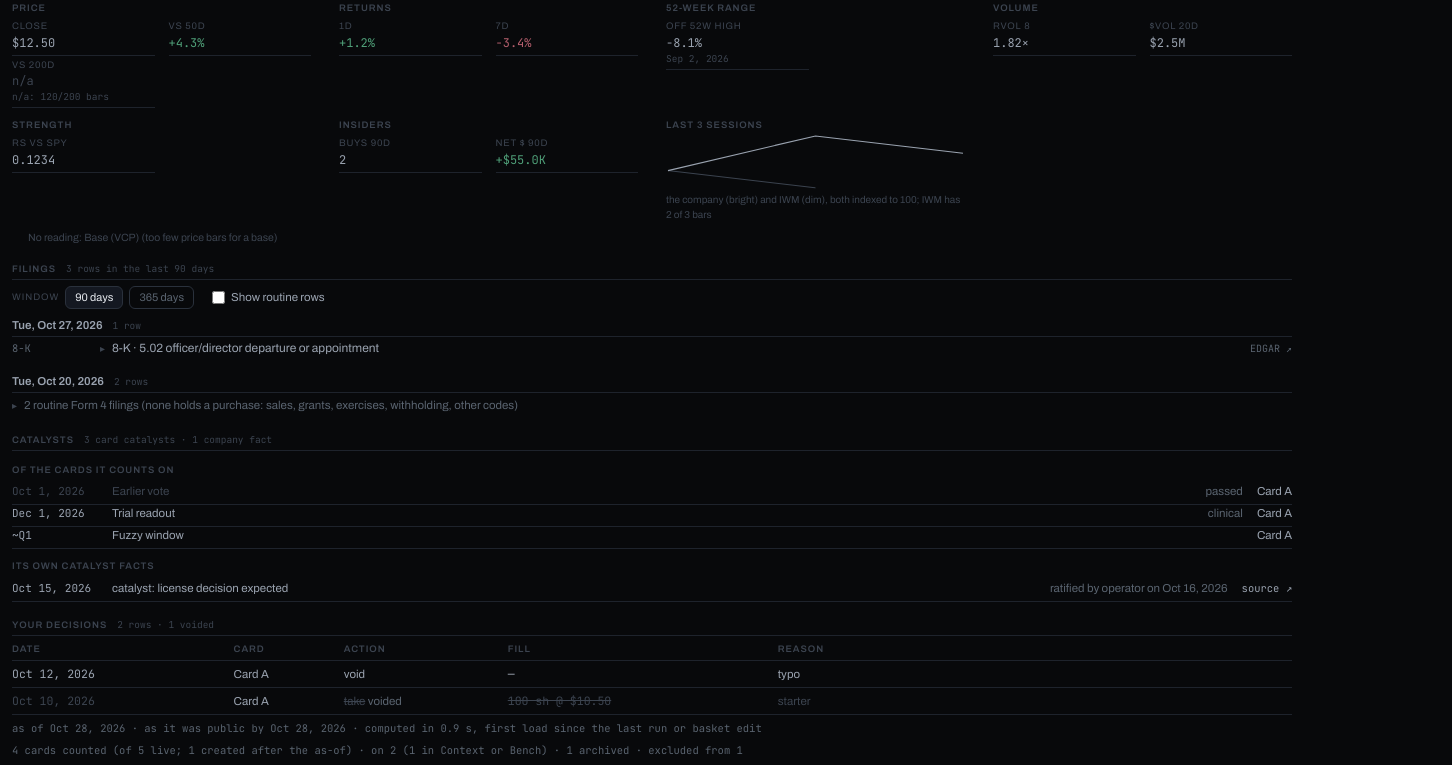
Scenario: TickerLookup — the sections › shows the last 90 days of filings by default, folds the routine rows and flips to 365 days
(page scrolled)
Expected: the number of list items with test id "tl-filing" is 1, x1=12 y1=339 x2=1292 y2=363
Expected: the element "Tue, Oct 27, 2026" is shown, x1=12 y1=317 x2=1292 y2=363
the day's two routine Form 4s are one folded line that opens in place
Click the button "2 routine Form 4 filings" at (265, 406), box x1=12 y1=397 x2=518 y2=415
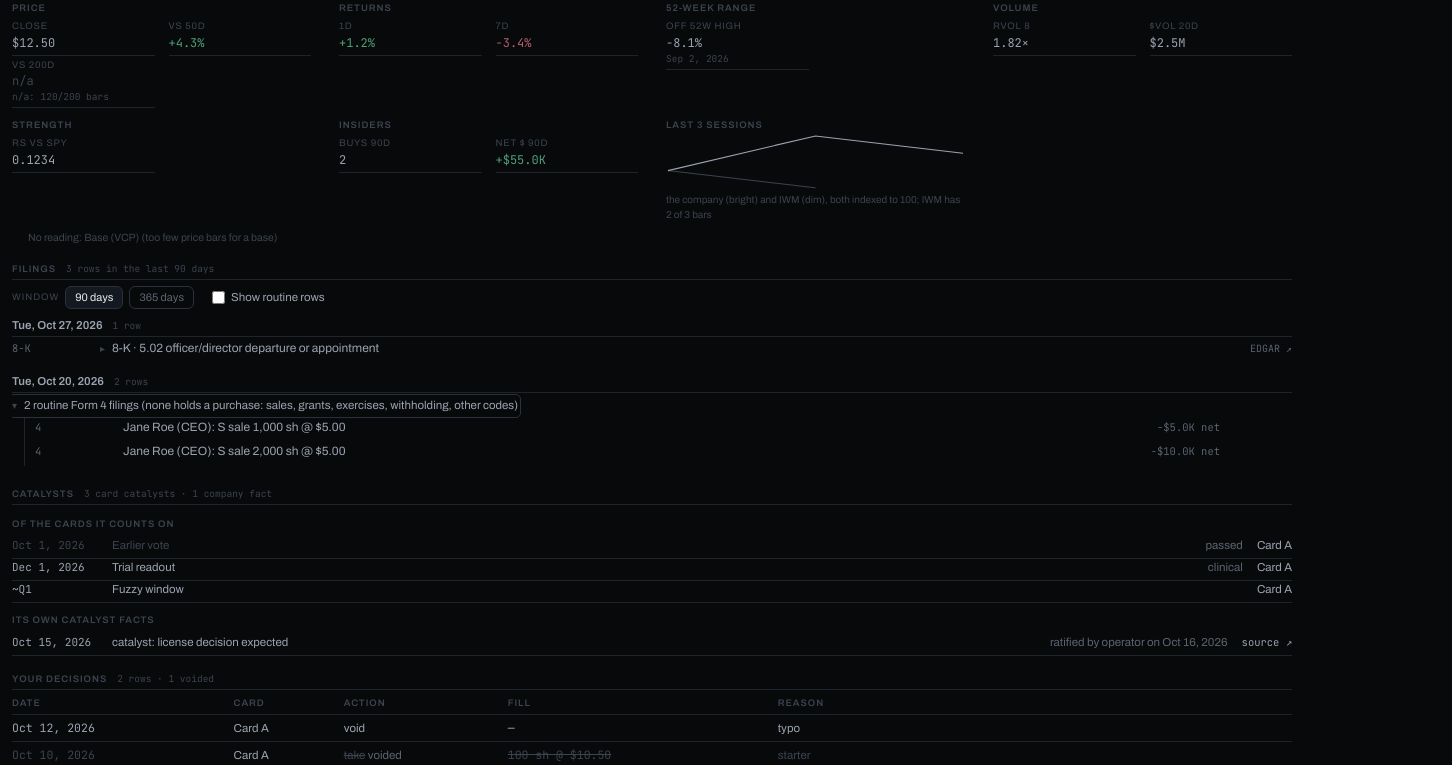
Now the number of list items with test id "tl-filing" is 3, box x1=12 y1=339 x2=1292 y2=363; x1=35 y1=420 x2=1220 y2=434; x1=35 y1=444 x2=1220 y2=458
365 days brings the May filing in
Click the button "365 days" at (162, 298), box x1=129 y1=286 x2=194 y2=309
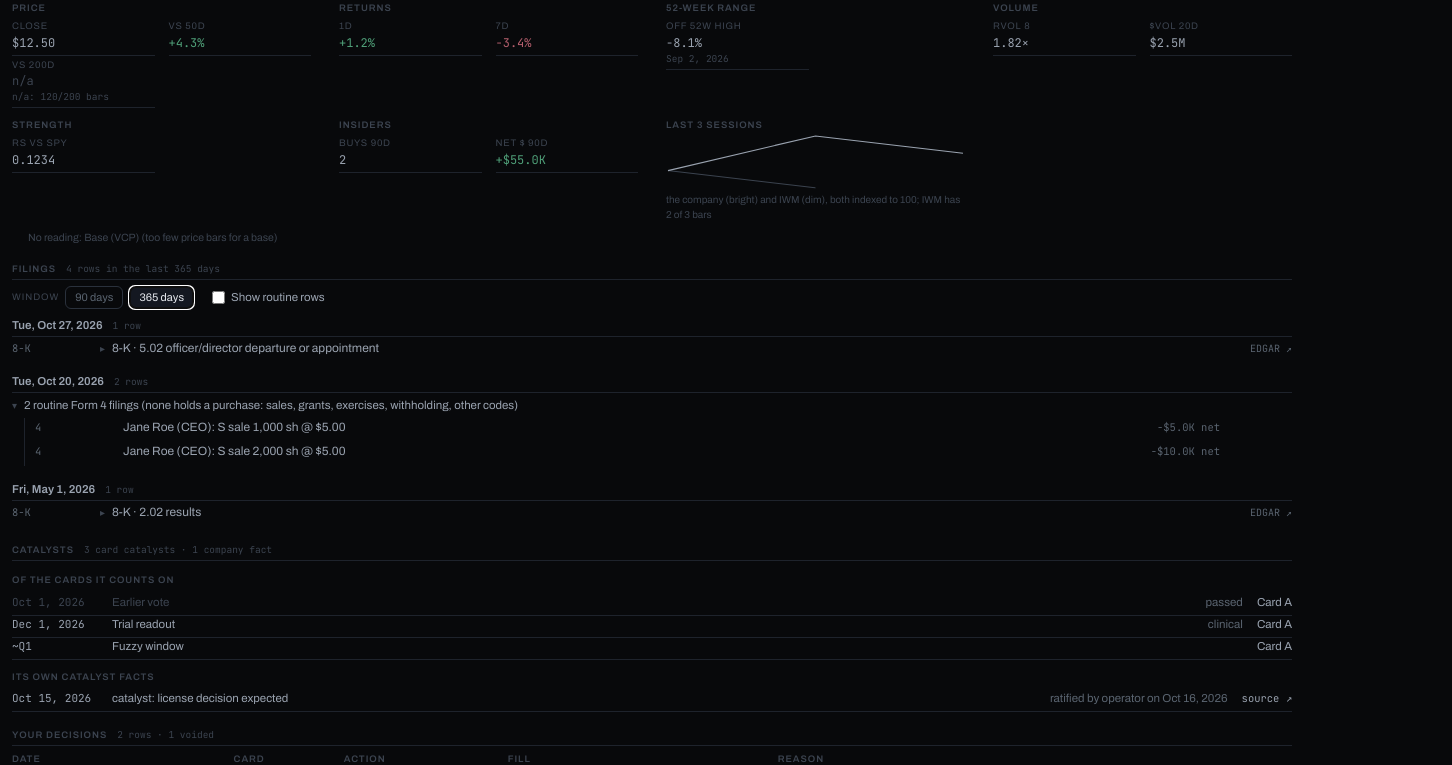
Now the element "Fri, May 1, 2026 1 row 8-K ▸ 8-K · 2.02 results EDGAR ↗" is shown, box x1=12 y1=481 x2=1292 y2=527
Now the text "4 rows in the last 365 days" is shown, box x1=66 y1=262 x2=220 y2=276
